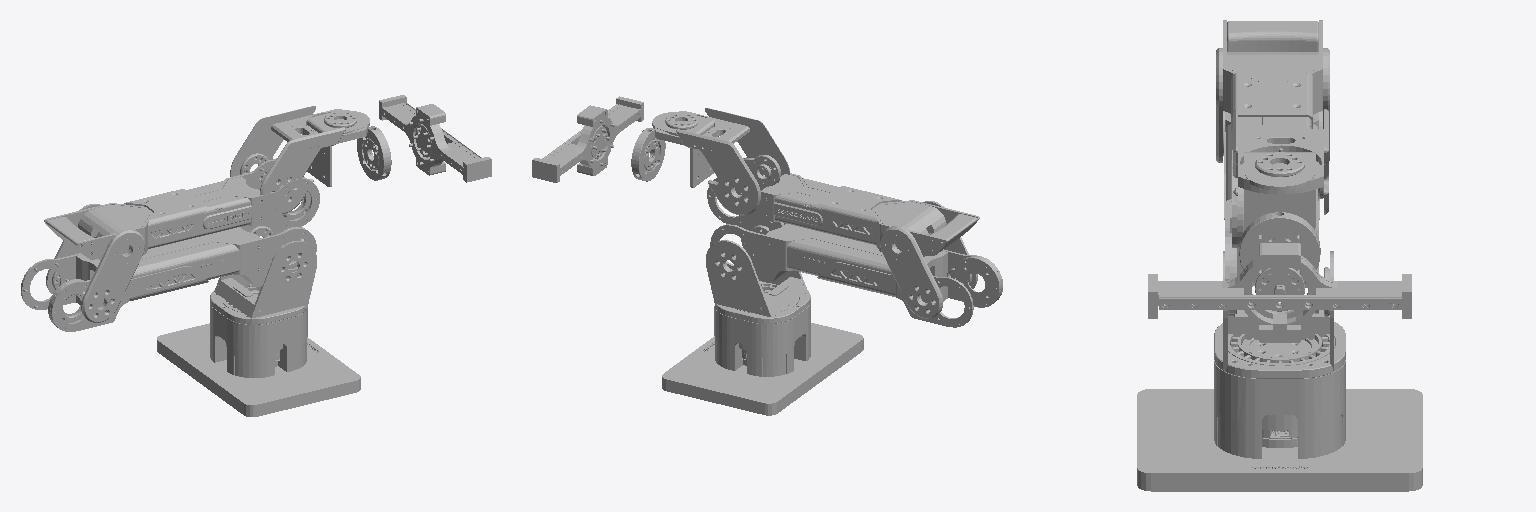
The robot description file, URDF, robot "00-arm-rs_asm-v3":
<?xml version="1.0" encoding="utf-8"?>
<!-- This URDF was automatically created by SolidWorks to URDF Exporter! Originally created by Stephen Brawner (brawner@gmail.com) 
     Commit Version: 1.6.0-4-g7f85cfe  Build Version: 1.6.7995.38578
     For more information, please see http://wiki.ros.org/sw_urdf_exporter -->
<robot
  name="00-arm-rs_asm-v3">
  <link
    name="base_link">
    <inertial>
      <origin
        xyz="2.87641888266442E-06 -0.000122302488725115 0.0243376121934547"
        rpy="0 0 0" />
      <mass
        value="1.1774" />
      <inertia
        ixx="0.00133040"
        ixy="0.00000001"
        ixz="0.00000000"
        iyy="0.00213119"
        iyz="0.00000000"
        izz="0.00275877" />
    </inertial>
    <visual>
      <origin
        xyz="0 0 0"
        rpy="0 0 0" />
      <geometry>
        <mesh
          filename="meshes/base_link.STL" />
      </geometry>
      <material
        name="">
        <color
          rgba="0.752941176470588 0.752941176470588 0.752941176470588 1" />
      </material>
    </visual>
    <collision>
      <origin
        xyz="0 0 0"
        rpy="0 0 0" />
      <geometry>
        <mesh
          filename="meshes/base_link.STL" />
      </geometry>
    </collision>
  </link>
  <link
    name="link1">
    <inertial>
      <origin
        xyz="0.00817652280320541 0.00122584211922395 0.0331419658967293"
        rpy="0 0 0" />
      <mass
        value="0.4655" />
      <inertia
        ixx="0.00025207"
        ixy="0.00000000"
        ixz="-0.00002832"
        iyy="0.00015464"
        iyz="0.00000000"
        izz="0.00023416" />
    </inertial>
    <visual>
      <origin
        xyz="0 0 0"
        rpy="0 0 0" />
      <geometry>
        <mesh
          filename="meshes/link1.STL" />
      </geometry>
      <material
        name="">
        <color
          rgba="0.752941176470588 0.752941176470588 0.752941176470588 1" />
      </material>
    </visual>
    <collision>
      <origin
        xyz="0 0 0"
        rpy="0 0 0" />
      <geometry>
        <mesh
          filename="meshes/link1.STL" />
      </geometry>
    </collision>
  </link>
  <joint
    name="joint1"
    type="revolute">
    <origin
      xyz="-0.00034283 -0.00098683 0.075"
      rpy="0 0 0" />
    <parent
      link="base_link" />
    <child
      link="link1" />
    <axis
      xyz="0 0 -1" />
    <limit
      lower="-2.8"
      upper="2.8"
      effort="36"
      velocity="50" />
  </joint>
  <link
    name="link2">
    <inertial>
      <origin
        xyz="-0.117864812717456 -0.00342226413942967 -0.0271551938501484"
        rpy="0 0 0" />
      <mass
        value="1.972" />
      <inertia
        ixx="0.00073374"
        ixy="-0.00000043"
        ixz="0.00000851"
        iyy="0.01255987"
        iyz="0.00000128"
        izz="0.01281387" />
    </inertial>
    <!-- <visual>
      <origin
        xyz="0 0 0"
        rpy="0 0 0" />
      <geometry>
        <mesh
          filename="meshes/link2.STL" />
      </geometry>
      <material
        name="">
        <color
          rgba="0.752941176470588 0.752941176470588 0.752941176470588 1" />
      </material>
    </visual> -->
    <visual>
      <origin
        xyz="0 0 0"
        rpy="0 0 0" />
      <geometry>
        <mesh
          filename="meshes/motor_2_3.STL" />
      </geometry>
      <material
        name="">
        <color
          rgba="0.752941176470588 0.752941176470588 0.752941176470588 1" />
      </material>
    </visual>
    <visual>
      <origin
        xyz="0 0 0"
        rpy="0 0 0" />
      <geometry>
        <mesh
          filename="meshes/cnc2.STL" />
      </geometry>
      <material
        name="">
        <color
          rgba="0.752941176470588 0.752941176470588 0.752941176470588 1" />
      </material>
    </visual>
    <visual>
      <origin
        xyz="0 0 0"
        rpy="0 0 0" />
      <geometry>
        <mesh
          filename="meshes/pla2_black.STL" />
      </geometry>
      <material
        name="">
        <color
          rgba="0.752941176470588 0.752941176470588 0.752941176470588 1" />
      </material>
    </visual>
    <visual>
      <origin
        xyz="0 0 0"
        rpy="0 0 0" />
      <geometry>
        <mesh
          filename="meshes/pla2_green.STL" />
      </geometry>
      <material
        name="">
        <color
          rgba="0.752941176470588 0.752941176470588 0.752941176470588 1" />
      </material>
    </visual>
    <collision>
      <origin
        xyz="0 0 0"
        rpy="0 0 0" />
      <geometry>
        <mesh
          filename="meshes/link2.STL" />
      </geometry>
    </collision>
  </link>
  <joint
    name="joint2"
    type="revolute">
    <origin
      xyz="0.020343 0.027237 0.07"
      rpy="-1.5708 0 0" />
    <parent
      link="link1" />
    <child
      link="link2" />
    <axis
      xyz="0 0 1" />
    <limit
      lower="0"
      upper="3.14"
      effort="36"
      velocity="50" />
  </joint>
  <link
    name="link3">
    <inertial>
      <origin
        xyz="0.103427154487799 -0.0664137912104635 -0.0271068687716704"
        rpy="0 0 0" />
      <mass
        value="1.062" />
      <inertia
        ixx="0.00046807"
        ixy="-0.00003456"
        ixz="-0.00004260"
        iyy="0.00632695"
        iyz="0.00000006"
        izz="0.00648221" />
    </inertial>
    <!--  <visual>
      <origin
        xyz="0 0 0"
        rpy="0 0 0" />
      <geometry>
        <mesh
          filename="meshes/link3.STL" />
      </geometry>
      <material
        name="">
        <color
          rgba="0.752941176470588 0.752941176470588 0.752941176470588 1" />
      </material>
    </visual> -->
    <visual>
      <origin
        xyz="0 0 0"
        rpy="0 0 0" />
      <geometry>
        <mesh
          filename="meshes/cnc3.STL" />
      </geometry>
      <material
        name="">
        <color
          rgba="0.752941176470588 0.752941176470588 0.752941176470588 1" />
      </material>
    </visual>
    <visual>
      <origin
        xyz="0 0 0"
        rpy="0 0 0" />
      <geometry>
        <mesh
          filename="meshes/motor_4.STL" />
      </geometry>
      <material
        name="">
        <color
          rgba="0.752941176470588 0.752941176470588 0.752941176470588 1" />
      </material>
    </visual>
    <visual>
      <origin
        xyz="0 0 0"
        rpy="0 0 0" />
      <geometry>
        <mesh
          filename="meshes/pla3_black.STL" />
      </geometry>
      <material
        name="">
        <color
          rgba="0.752941176470588 0.752941176470588 0.752941176470588 1" />
      </material>
    </visual>
    <visual>
      <origin
        xyz="0 0 0"
        rpy="0 0 0" />
      <geometry>
        <mesh
          filename="meshes/pla3_green.STL" />
      </geometry>
      <material
        name="">
        <color
          rgba="0.752941176470588 0.752941176470588 0.752941176470588 1" />
      </material>
    </visual>
    <collision>
      <origin
        xyz="0 0 0"
        rpy="0 0 0" />
      <geometry>
        <mesh
          filename="meshes/link3.STL" />
      </geometry>
    </collision>
  </link>
  <joint
    name="joint3"
    type="revolute">
    <origin
      xyz="-0.236 0 0"
      rpy="0 0 0" />
    <parent
      link="link2" />
    <child
      link="link3" />
    <axis
      xyz="0 0 -1" />
    <limit
      lower="0"
      upper="3.14"
      effort="36"
      velocity="50" />
  </joint>
  <link
    name="link4">
    <inertial>
      <origin
        xyz="0.0475544540775559 -0.0441113470158517 -0.0314111924918381"
        rpy="0 0 0" />
      <mass
        value="0.66" />
      <inertia
        ixx="0.00045986"
        ixy="0.00024219"
        ixz="-0.0"
        iyy="0.00075258"
        iyz="-0.0"
        izz="0.00066742" />
    </inertial>
    <!-- <visual>
      <origin
        xyz="0 0 0"
        rpy="0 0 0" />
      <geometry>
        <mesh
          filename="meshes/link4.STL" />
      </geometry>
      <material
        name="">
        <color
          rgba="0.752941176470588 0.752941176470588 0.752941176470588 1" />
      </material>
    </visual> -->
    <visual>
      <origin
        xyz="0 0 0"
        rpy="0 0 0" />
      <geometry>
        <mesh
          filename="meshes/motor_5.STL" />
      </geometry>
      <material
        name="">
        <color
          rgba="0.752941176470588 0.752941176470588 0.752941176470588 1" />
      </material>
    </visual>
    <visual>
      <origin
        xyz="0 0 0"
        rpy="0 0 0" />
      <geometry>
        <mesh
          filename="meshes/cnc4.STL" />
      </geometry>
      <material
        name="">
        <color
          rgba="0.752941176470588 0.752941176470588 0.752941176470588 1" />
      </material>
    </visual>
    <collision>
      <origin
        xyz="0 0 0"
        rpy="0 0 0" />
      <geometry>
        <mesh
          filename="meshes/link4.STL" />
      </geometry>
    </collision>
  </link>
  <joint
    name="joint4"
    type="revolute">
    <origin
      xyz="0.228 -0.072746 0.0045"
      rpy="0 0 0" />
    <parent
      link="link3" />
    <child
      link="link4" />
    <axis
      xyz="0 0 -1" />
    <limit
      lower="-1.57"
      upper="1.57"
      effort="14"
      velocity="40" />
  </joint>
  <link
    name="link5">
    <inertial>
      <origin
        xyz="0.0114400622356175 4.7907739316217E-06 0.0380487481818926"
        rpy="0 0 0" />
      <mass
        value="0.150120457182895" />
      <inertia
        ixx="7.34238025911107E-05"
        ixy="1.35700947009798E-08"
        ixz="-8.58146433770359E-07"
        iyy="5.5153884237714E-05"
        iyz="-1.32742144977931E-08"
        izz="5.29920095811017E-05" />
    </inertial>
    <!-- <visual>
      <origin
        xyz="0 0 0"
        rpy="0 0 0" />
      <geometry>
        <mesh
          filename="meshes/link5.STL" />
      </geometry>
      <material
        name="">
        <color
          rgba="0.752941176470588 0.752941176470588 0.752941176470588 1" />
      </material>
    </visual> -->
    <visual>
      <origin
        xyz="0 0 0"
        rpy="0 0 0" />
      <geometry>
        <mesh
          filename="meshes/motor_6.STL" />
      </geometry>
      <material
        name="">
        <color
          rgba="0.752941176470588 0.752941176470588 0.752941176470588 1" />
      </material>
    </visual>
    <visual>
      <origin
        xyz="0 0 0"
        rpy="0 0 0" />
      <geometry>
        <mesh
          filename="meshes/cnc5.STL" />
      </geometry>
      <material
        name="">
        <color
          rgba="0.752941176470588 0.752941176470588 0.752941176470588 1" />
      </material>
    </visual>
    <visual>
      <origin
        xyz="0 0 0"
        rpy="0 0 0" />
      <geometry>
        <mesh
          filename="meshes/pla5_green.STL" />
      </geometry>
      <material
        name="">
        <color
          rgba="0.752941176470588 0.752941176470588 0.752941176470588 1" />
      </material>
    </visual>
    <collision>
      <origin
        xyz="0 0 0"
        rpy="0 0 0" />
      <geometry>
        <mesh
          filename="meshes/link5.STL" />
      </geometry>
    </collision>
  </link>
  <joint
    name="joint5"
    type="revolute">
    <origin
      xyz="0.087 -0.048 -0.03075"
      rpy="-1.5708 0 0" />
    <parent
      link="link4" />
    <child
      link="link5" />
    <axis
      xyz="0 0 -1" />
    <limit
      lower="-1.57"
      upper="1.57"
      effort="14"
      velocity="40" />
  </joint>
  <link
    name="link6">
    <inertial>
      <origin
        xyz="1.80196022567525E-05 2.48334592051007E-08 0.00434805764057547"
        rpy="0 0 0" />
      <mass
        value="0.03" />
      <inertia
        ixx="4.42273835852359E-06"
        ixy="3.16758463739482E-12"
        ixz="1.51852818442002E-10"
        iyy="4.37185522080034E-06"
        iyz="-2.21864017603015E-12"
        izz="8.54299378942051E-06" />
    </inertial>
    <visual>
      <origin
        xyz="0 0 0"
        rpy="0 0 0" />
      <geometry>
        <mesh
          filename="meshes/link6.STL" />
      </geometry>
      <material
        name="">
        <color
          rgba="0.752941176470588 0.752941176470588 0.752941176470588 1" />
      </material>
    </visual>
    <collision>
      <origin
        xyz="0 0 0"
        rpy="0 0 0" />
      <geometry>
        <mesh
          filename="meshes/link6.STL" />
      </geometry>
    </collision>
  </link>
  <joint
    name="joint6"
    type="revolute">
    <origin
      xyz="0.0365 0 0.048"
      rpy="0 1.5708 0" />
    <parent
      link="link5" />
    <child
      link="link6" />
    <axis
      xyz="0 0 -1" />
    <limit
      lower="-3.14"
      upper="3.14"
      effort="14"
      velocity="40" />
  </joint>
  <link
    name="gripper_end">
    <inertial>
      <origin
        xyz="-0.112751692515958 0.000128443070436966 -5.72602449749882E-06"
        rpy="0 0 0" />
      <mass
        value="0.35" />
      <inertia
        ixx="0.00037354"
        ixy="-0.00000011"
        ixz="0.00000050"
        iyy="0.00015830"
        iyz="0.00000348"
        izz="0.00045353" />
    </inertial>
    <!-- <visual>
      <origin
        xyz="0 0 0"
        rpy="0 0 0" />
      <geometry>
        <mesh
          filename="meshes/gripper_end.STL" />
      </geometry>
      <material
        name="">
        <color
          rgba="0.752941176470588 0.752941176470588 0.752941176470588 1" />
      </material>
    </visual> -->
    <visual>
      <origin
        xyz="0 0 0"
        rpy="0 0 0" />
      <geometry>
        <mesh
          filename="meshes/pla7_green.STL" />
      </geometry>
      <material
        name="">
        <color
          rgba="0.752941176470588 0.752941176470588 0.752941176470588 1" />
      </material>
    </visual>
    <visual>
      <origin
        xyz="0 0 0"
        rpy="0 0 0" />
      <geometry>
        <mesh
          filename="meshes/cnc7.STL" />
      </geometry>
      <material
        name="">
        <color
          rgba="0.752941176470588 0.752941176470588 0.752941176470588 1" />
      </material>
    </visual>
    <visual>
      <origin
        xyz="0 0 0"
        rpy="0 0 0" />
      <geometry>
        <mesh
          filename="meshes/motor_7.STL" />
      </geometry>
      <material
        name="">
        <color
          rgba="0.752941176470588 0.752941176470588 0.752941176470588 1" />
      </material>
    </visual>
    <collision>
      <origin
        xyz="0 0 0"
        rpy="0 0 0" />
      <geometry>
        <mesh
          filename="meshes/gripper_end.STL" />
      </geometry>
    </collision>
  </link>
  <joint
    name="j_gripper_end"
    type="fixed">
    <origin
      xyz="0 0 0.16621"
      rpy="3.1416 -1.5708 0" />
    <parent
      link="link6" />
    <child
      link="gripper_end" />
    <axis
      xyz="0 0 0" />
  </joint>
  <link
    name="gripper_left">
    <inertial>
      <origin
        xyz="-0.00218008703135955 0.0187090355934181 0.00932188568692145"
        rpy="0 0 0" />
      <mass
        value="0.0752" />
      <inertia
        ixx="1.09877964176176E-05"
        ixy="0"
        ixz="0"
        iyy="9.50146036720166E-06"
        iyz="0"
        izz="9.30779991911125E-06" />
    </inertial>
    <!-- <visual>
      <origin
        xyz="0 0 0"
        rpy="0 0 0" />
      <geometry>
        <mesh
          filename="meshes/gripper_left.STL" />
      </geometry>
      <material
        name="">
        <color
          rgba="0.752941176470588 0.752941176470588 0.752941176470588 1" />
      </material>
    </visual> -->
    <visual>
      <origin
        xyz="0 0 0"
        rpy="0 0 0" />
      <geometry>
        <mesh
          filename="meshes/pla_left.STL" />
      </geometry>
      <material
        name="">
        <color
          rgba="0.752941176470588 0.752941176470588 0.752941176470588 1" />
      </material>
    </visual>
    <visual>
      <origin
        xyz="0 0 0"
        rpy="0 0 0" />
      <geometry>
        <mesh
          filename="meshes/cnc_left.STL" />
      </geometry>
      <material
        name="">
        <color
          rgba="0.752941176470588 0.752941176470588 0.752941176470588 1" />
      </material>
    </visual>
    <collision>
      <origin
        xyz="0 0 0"
        rpy="0 0 0" />
      <geometry>
        <mesh
          filename="meshes/gripper_left.STL" />
      </geometry>
    </collision>
  </link>
  <joint
    name="joint_left"
    type="prismatic">
    <origin
      xyz="-0.041939 -7.3385E-05 0"
      rpy="1.5708 -1.5708 0" />
    <parent
      link="gripper_end" />
    <child
      link="gripper_left" />
    <axis
      xyz="0 0 1" />
    <limit
      lower="0"
      upper="0.05"
      effort="500"
      velocity="10" />
  </joint>
  <link
    name="gripper_right">
    <inertial>
      <origin
        xyz="0.00218008703135955 -0.018709035593418 0.00932188568692151"
        rpy="0 0 0" />
      <mass
        value="0.0752" />
      <inertia
        ixx="1.09877964176176E-05"
        ixy="0"
        ixz="0"
        iyy="9.50146036720166E-06"
        iyz="0"
        izz="9.30779991911125E-06" />
    </inertial>
    <!-- <visual>
      <origin
        xyz="0 0 0"
        rpy="0 0 0" />
      <geometry>
        <mesh
          filename="meshes/gripper_right.STL" />
      </geometry>
      <material
        name="">
        <color
          rgba="0.752941176470588 0.752941176470588 0.752941176470588 1" />
      </material>
    </visual> -->
    <visual>
      <origin
        xyz="0 0 0"
        rpy="0 0 0" />
      <geometry>
        <mesh
          filename="meshes/pla_right.STL" />
      </geometry>
      <material
        name="">
        <color
          rgba="0.752941176470588 0.752941176470588 0.752941176470588 1" />
      </material>
    </visual>
    <visual>
      <origin
        xyz="0 0 0"
        rpy="0 0 0" />
      <geometry>
        <mesh
          filename="meshes/cnc_right.STL" />
      </geometry>
      <material
        name="">
        <color
          rgba="0.752941176470588 0.752941176470588 0.752941176470588 1" />
      </material>
    </visual>
    <collision>
      <origin
        xyz="0 0 0"
        rpy="0 0 0" />
      <geometry>
        <mesh
          filename="meshes/gripper_right.STL" />
      </geometry>
    </collision>
  </link>
  <joint
    name="joint_right"
    type="prismatic">
    <origin
      xyz="-0.041939 7.3385E-05 0"
      rpy="-1.5708 -1.5708 0" />
    <parent
      link="gripper_end" />
    <child
      link="gripper_right" />
    <axis
      xyz="0 0 1" />
    <limit
      lower="0"
      upper="0.05"
      effort="500"
      velocity="10" />
  </joint>
</robot>

--- Facts derived from the render (not from the file) ---
3 views of the same robot in one strip: view 1: azimuth 30°, elevation 25°; view 2: azimuth 150°, elevation 25°; view 3: azimuth 270°, elevation 25° (orthographic).
Robot: 00-arm-rs_asm-v3 — 10 links, 9 joints (6 revolute, 2 prismatic, 1 fixed); root link base_link; default pose: every joint at zero.
Visible links, largest first — view 1: link3, base_link, link2, link4, link1, gripper_end, link5, link6; view 2: base_link, link3, link2, link4, link1, gripper_end, link5, link6; view 3: base_link, link3, gripper_end, link5, link4, link1, link6, link2.
Link boxes in pixels (x1=…): link3: x1=44, y1=159, x2=319, y2=322; base_link: x1=157, y1=284, x2=360, y2=416; link2: x1=21, y1=225, x2=316, y2=331; link4: x1=230, y1=106, x2=367, y2=213; link1: x1=214, y1=224, x2=316, y2=324; gripper_end: x1=379, y1=95, x2=491, y2=182; link5: x1=307, y1=110, x2=369, y2=186; link6: x1=357, y1=126, x2=391, y2=180; base_link: x1=662, y1=281, x2=863, y2=415; link3: x1=707, y1=157, x2=979, y2=318; link2: x1=710, y1=215, x2=1002, y2=327; link4: x1=655, y1=108, x2=789, y2=215; link1: x1=706, y1=221, x2=807, y2=316; gripper_end: x1=532, y1=96, x2=643, y2=182; link5: x1=652, y1=112, x2=714, y2=187; link6: x1=631, y1=128, x2=665, y2=181; base_link: x1=1137, y1=322, x2=1422, y2=491; link3: x1=1216, y1=20, x2=1329, y2=247; gripper_end: x1=1148, y1=243, x2=1411, y2=342; link5: x1=1244, y1=152, x2=1315, y2=229; link4: x1=1233, y1=109, x2=1328, y2=214; link1: x1=1223, y1=251, x2=1333, y2=372; link6: x1=1239, y1=212, x2=1320, y2=282; link2: x1=1224, y1=112, x2=1319, y2=313.
Size in the robot's own frame: 0.501 by 0.2 by 0.2727 metres.
Meshes: 23 distinct files referenced, 13 mesh visuals loaded (13 binary STL); not drawn: 10 (reference not matched to a file when rendering).
